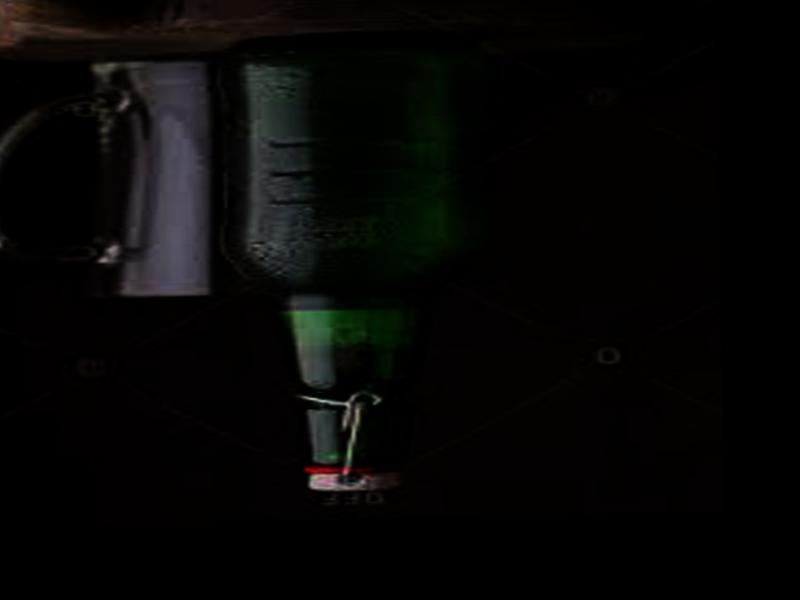Beer: (223, 31, 487, 493)
